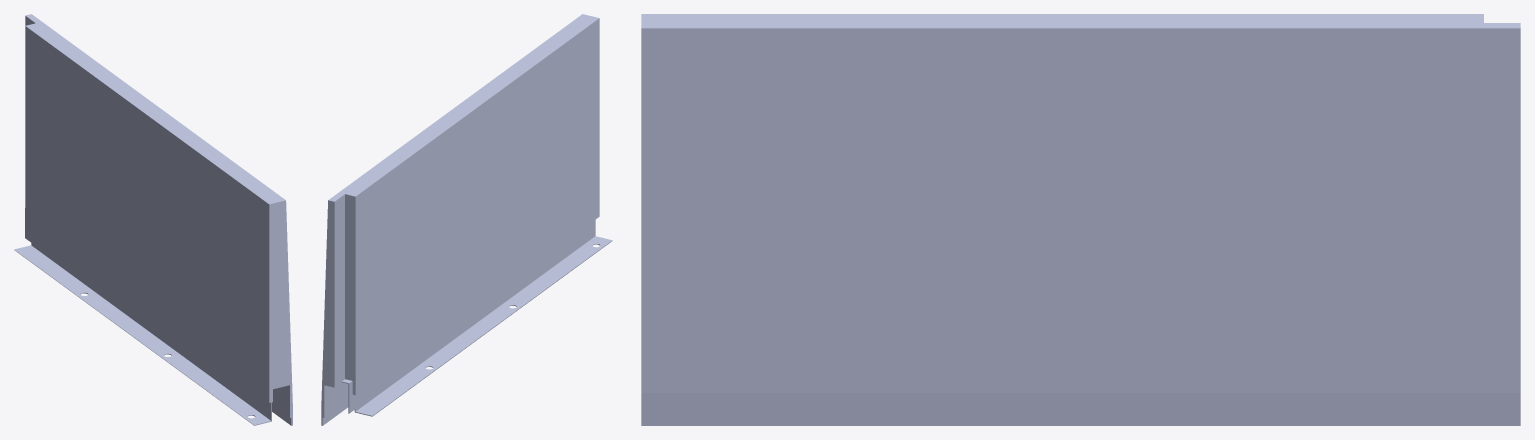
The model's file is mv-kava-E400-m.glb.
3 views of the same model, side by side, from view 1: azimuth 30°, elevation 25°; view 2: azimuth 150°, elevation 25°; view 3: azimuth 270°, elevation 25° (orthographic). The views are drawn at different scales.
Parts seen in each view (by area): view 1: 48486494; view 2: 48486494; view 3: 48486494.
Part boxes in pixels (<box>): 48486494: <box>14,14,292,425</box>; 48486494: <box>321,14,612,425</box>; 48486494: <box>641,14,1520,425</box>.
Bounding box in the file's own units: 0.0335 × 0.192 × 0.3902.
